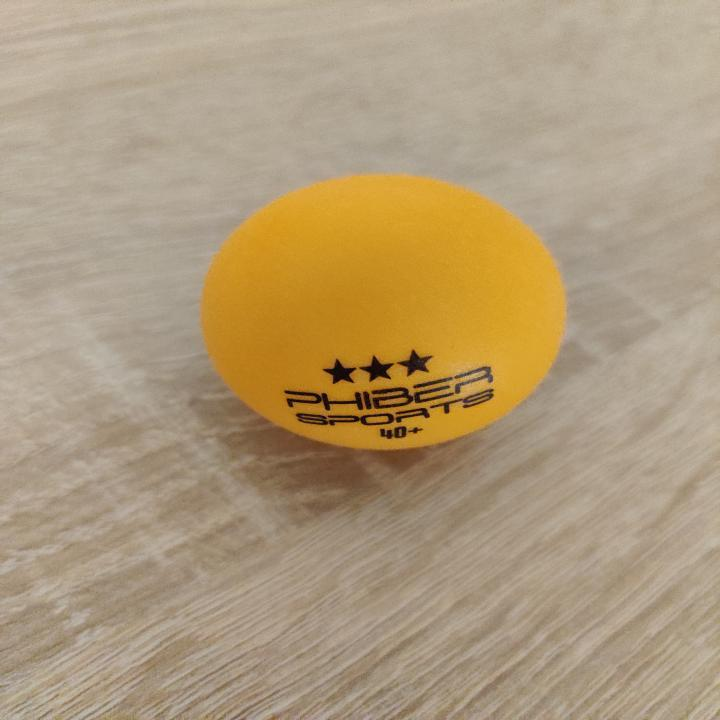orange: (197, 173, 572, 456)
